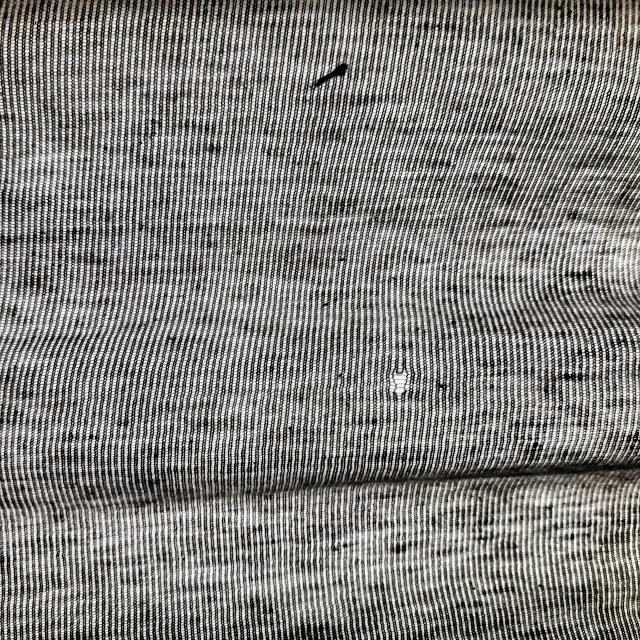cut: (374, 362, 429, 404)
